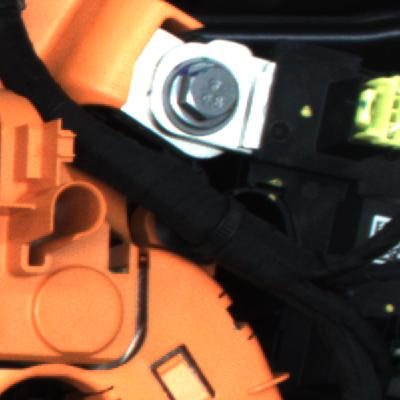nut_b: (157, 52, 248, 138)
